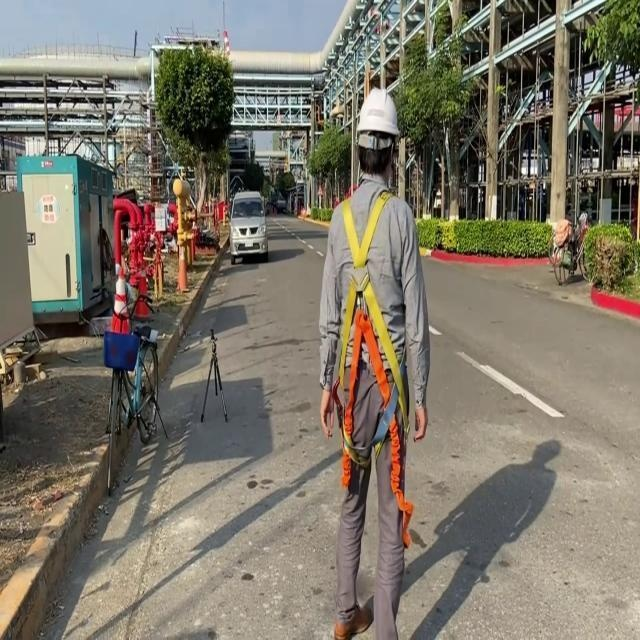Arnes_seguridad: (327, 187, 419, 482)
